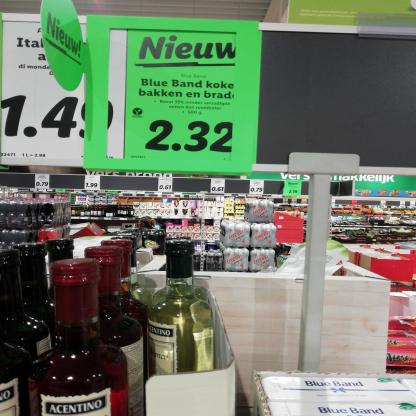prtg: (1, 22, 128, 161), (126, 30, 238, 163), (284, 181, 302, 197), (85, 176, 101, 191), (250, 181, 265, 195), (211, 180, 226, 194), (159, 178, 173, 193), (37, 175, 51, 189)
